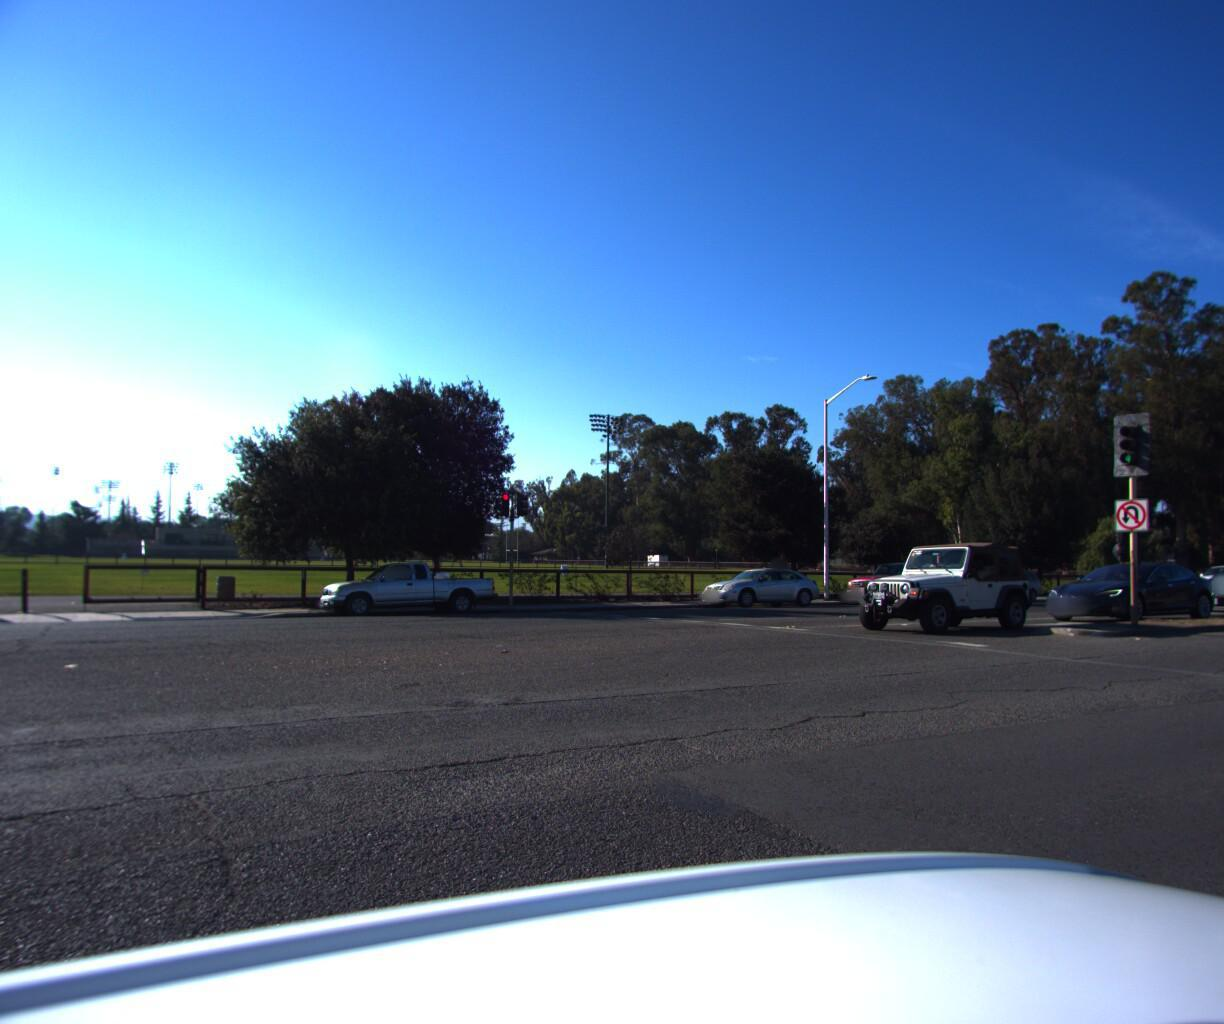car: (835, 529, 1049, 630), (1029, 553, 1224, 622), (310, 557, 502, 621), (838, 556, 965, 607), (694, 565, 829, 610), (946, 565, 1047, 603), (1172, 557, 1224, 614)
